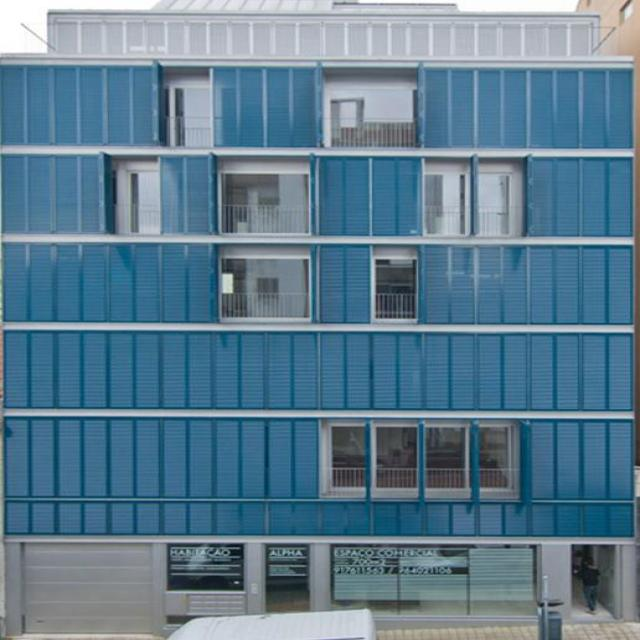Railing: (334, 466, 524, 500), (420, 206, 521, 235), (328, 118, 424, 146), (228, 203, 318, 231), (227, 291, 318, 317), (376, 291, 424, 323), (170, 115, 220, 144)
door: (267, 544, 308, 611)
wall: (4, 11, 633, 634)
windows: (333, 546, 532, 612), (336, 426, 524, 468), (171, 544, 249, 593), (112, 160, 160, 236), (225, 256, 318, 292), (423, 174, 520, 208), (329, 85, 421, 117), (228, 172, 316, 204), (169, 84, 218, 116), (378, 256, 424, 289)
